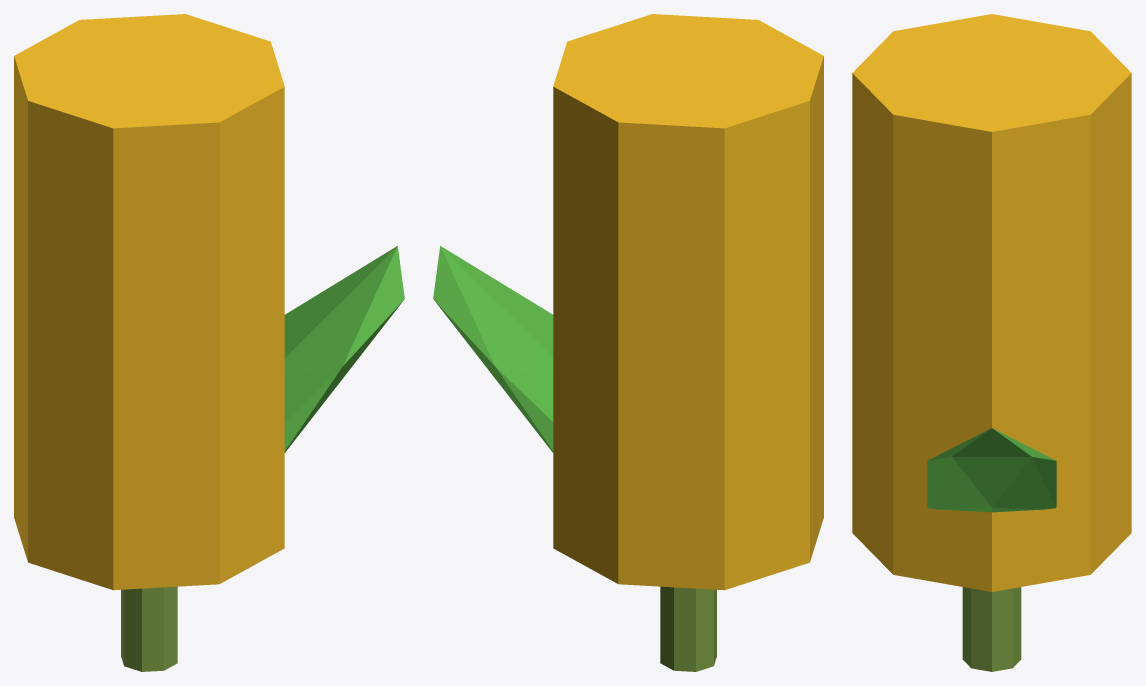
Rendered from harvest_drop_corn.glb.
3 renders of one model, left to right at view 1: azimuth 30°, elevation 25°; view 2: azimuth 150°, elevation 25°; view 3: azimuth 270°, elevation 25°, orthographic.
Visible parts, largest first — view 1: FTF_Harvest_Drop_Corn_Cob_Mesh; view 2: FTF_Harvest_Drop_Corn_Cob_Mesh; view 3: FTF_Harvest_Drop_Corn_Cob_Mesh.
Part boxes in pixels (x1,y1,x2,y2): FTF_Harvest_Drop_Corn_Cob_Mesh: [14, 14, 404, 671]; FTF_Harvest_Drop_Corn_Cob_Mesh: [433, 14, 823, 671]; FTF_Harvest_Drop_Corn_Cob_Mesh: [852, 14, 1131, 671].
Size of the model in its own units: 0.3351 by 0.51 by 0.22.
